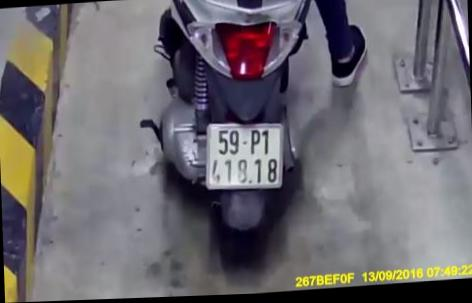LP: (201, 119, 287, 197)
